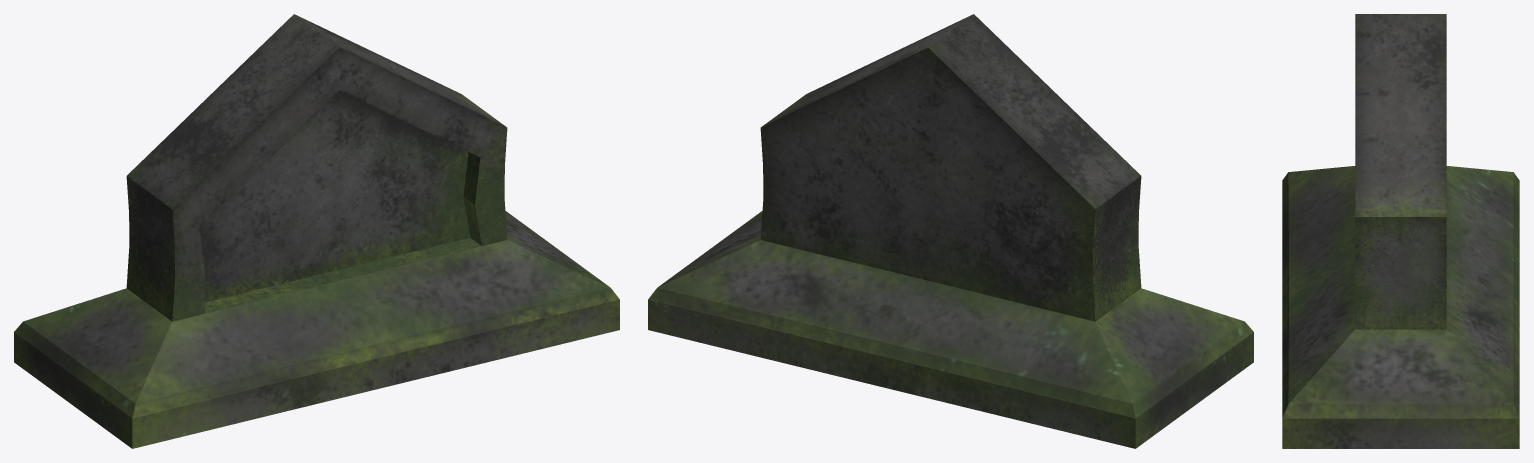
The model's file is tombs_moss_01.fbx.
3 renders of one model, left to right at view 1: azimuth 30°, elevation 25°; view 2: azimuth 150°, elevation 25°; view 3: azimuth 270°, elevation 25°, orthographic.
Visible parts, largest first — view 1: tombs_moss_01; view 2: tombs_moss_01; view 3: tombs_moss_01.
Boxes of the visible parts, x1=… form: tombs_moss_01: x1=14, y1=14, x2=619, y2=448; tombs_moss_01: x1=648, y1=14, x2=1253, y2=448; tombs_moss_01: x1=1282, y1=14, x2=1519, y2=448.
Bounding box in the file's own units: 0.1645 × 0.1017 × 0.0692.
Materials: 1 (1 with a texture image).
